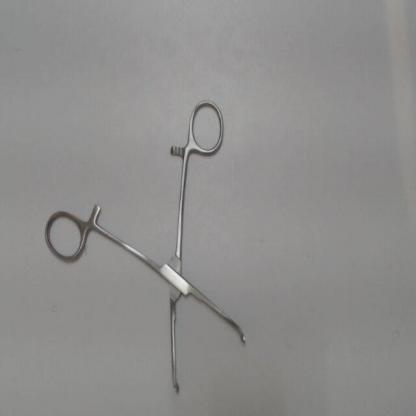Allis Tissue Forceps: (37, 95, 257, 409)
